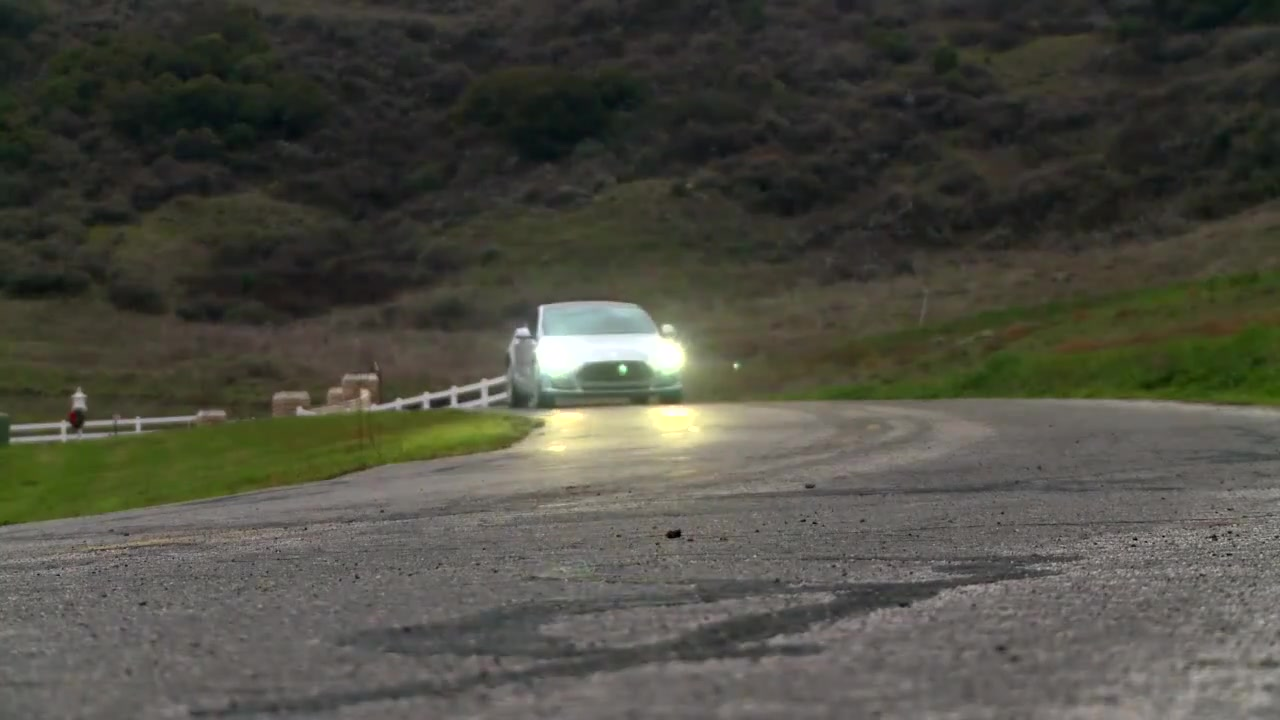car: (502, 296, 689, 410)
